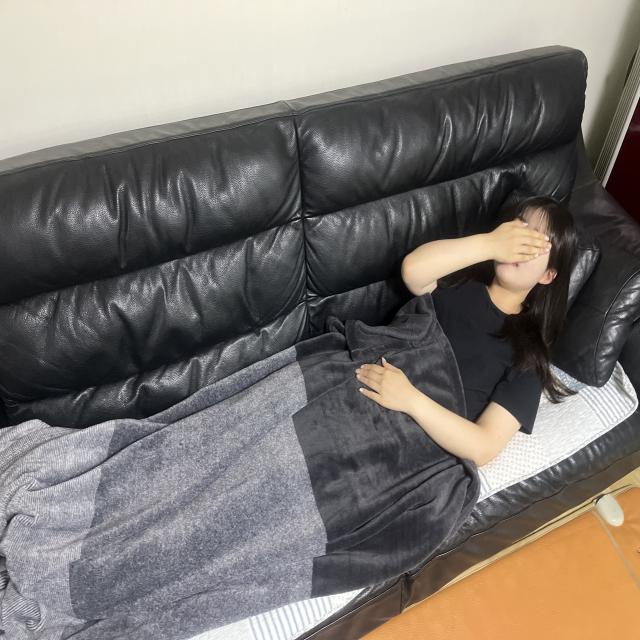people: (5, 192, 584, 610)
